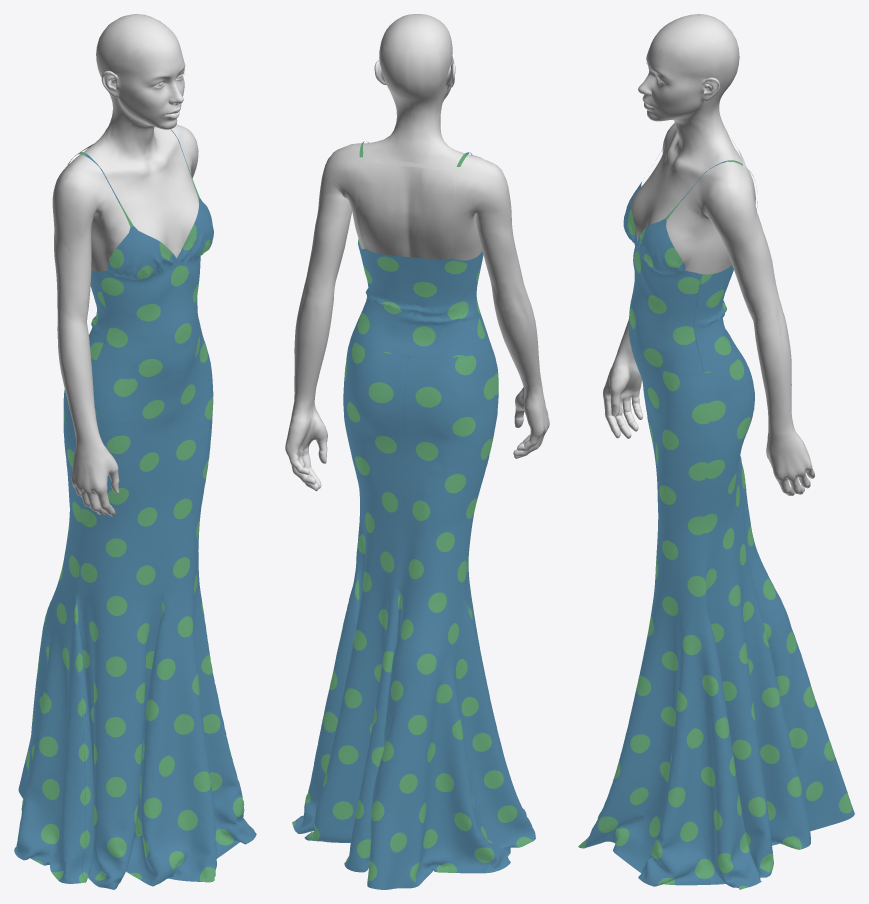
The model's file is dress_01.glb.
The picture shows the model from 3 angles, left to right: view 1: azimuth 30°, elevation 25°; view 2: azimuth 150°, elevation 25°; view 3: azimuth 270°, elevation 25°; orthographic projection.
Parts seen in each view (by area): view 1: dress_female; view 2: dress_female; view 3: dress_female.
Boxes of the visible parts, <box> form: dress_female: <box>14,14,256,889</box>; dress_female: <box>285,14,549,889</box>; dress_female: <box>578,14,854,889</box>.
Bounding box in the file's own units: 1.62 × 6.09 × 1.86.
2 materials, 1 textured.
